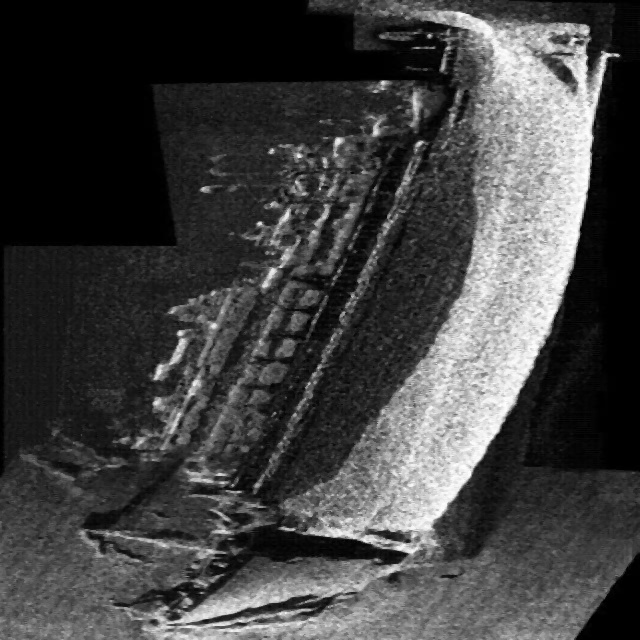Ship: (40, 1, 640, 640)
